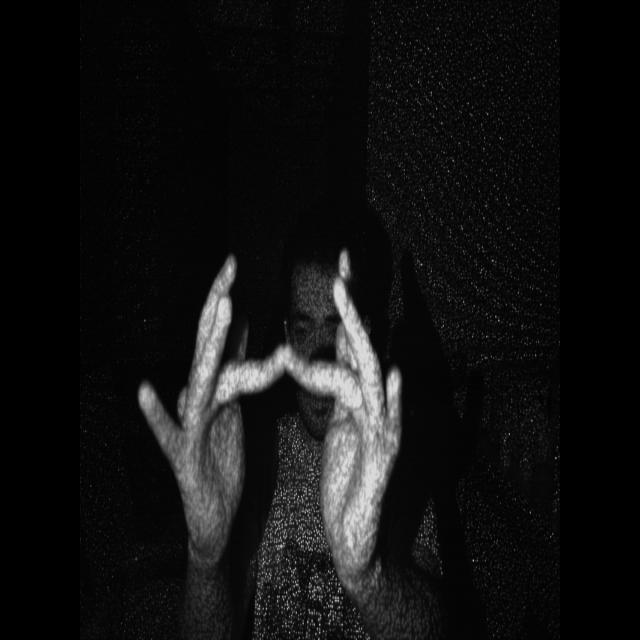REACH: (130, 238, 428, 596)
